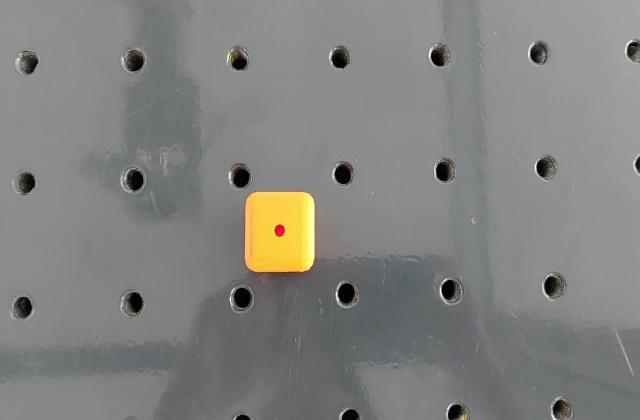cube: (244, 191, 317, 274)
